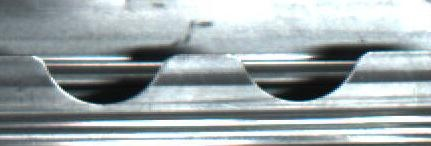twou: (38, 46, 360, 111)
